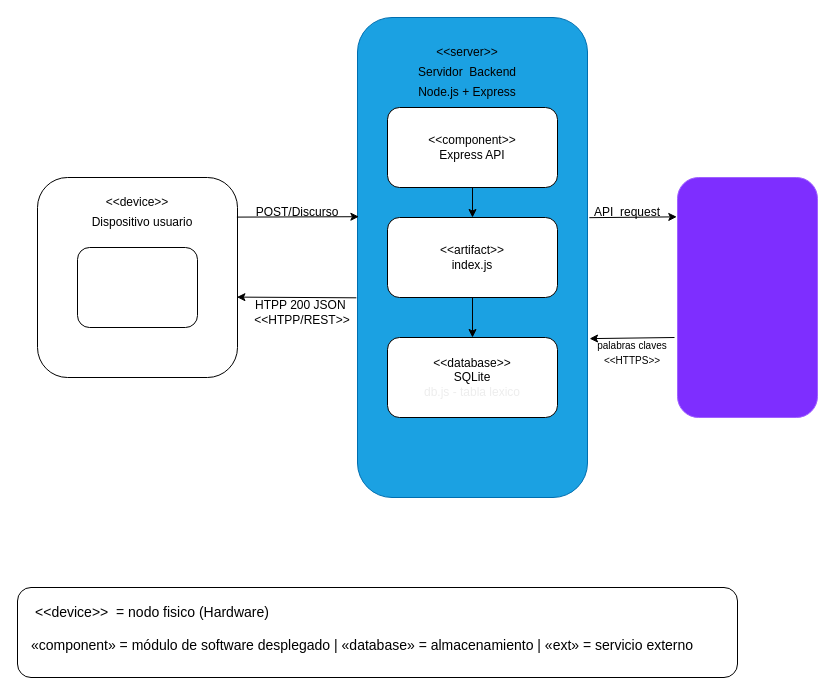
Some shapes in this 835 by 695 pixel diagram are drawn without their labels. The shapes that lost their labels are listed below. From the top down, each one's centre as x and y in pixels, then its label:
(137,287): <<component>> Cliente HTTP curl/Postman/app
(747,297): <<ext>> OpenAI API gpt-4o mini externo
